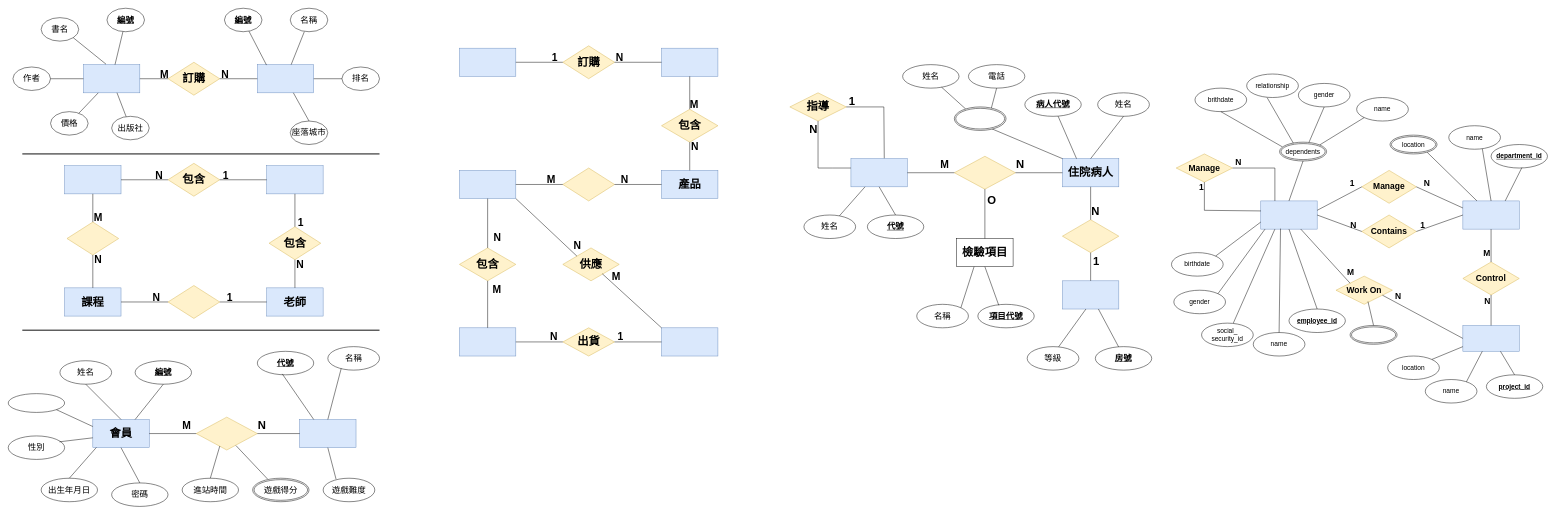
Some shapes in this 1556 by 515 pixel diagram are drawn without their labels. Each missing label, with the box of its shape:
Department: (1462, 200, 1519, 229)
Employee: (1260, 200, 1317, 229)
Project: (1462, 325, 1519, 351)
working hours: (1350, 325, 1397, 344)
住址: (8, 393, 65, 412)
供應商: (661, 327, 718, 356)
出貨單: (459, 327, 516, 356)
學生: (64, 165, 121, 194)
客戶: (459, 48, 516, 76)
容納: (1062, 219, 1119, 253)
教授: (168, 285, 220, 318)
書局: (257, 64, 314, 93)
書籍資料: (83, 64, 140, 93)
檢驗: (954, 156, 1015, 189)
病房: (1062, 280, 1119, 309)
系所: (266, 165, 323, 194)
組成: (562, 168, 615, 201)
緊急連絡人: (954, 106, 1006, 130)
訂單: (661, 48, 718, 76)
進站: (196, 417, 257, 450)
遊戲: (299, 419, 356, 448)
選修: (67, 222, 119, 255)
醫師: (850, 158, 907, 187)
項目: (459, 170, 516, 199)
